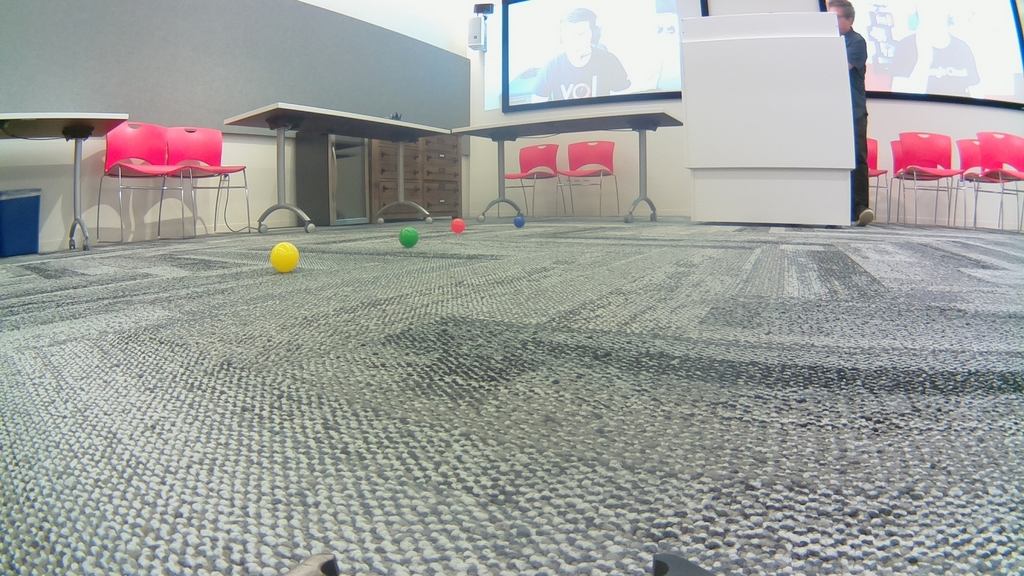ball: (514, 217, 523, 225)
